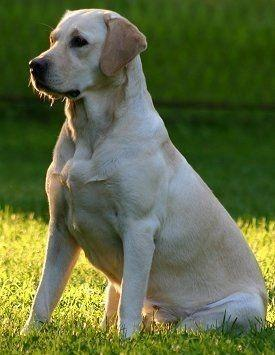adult_dog: (21, 8, 268, 341)
